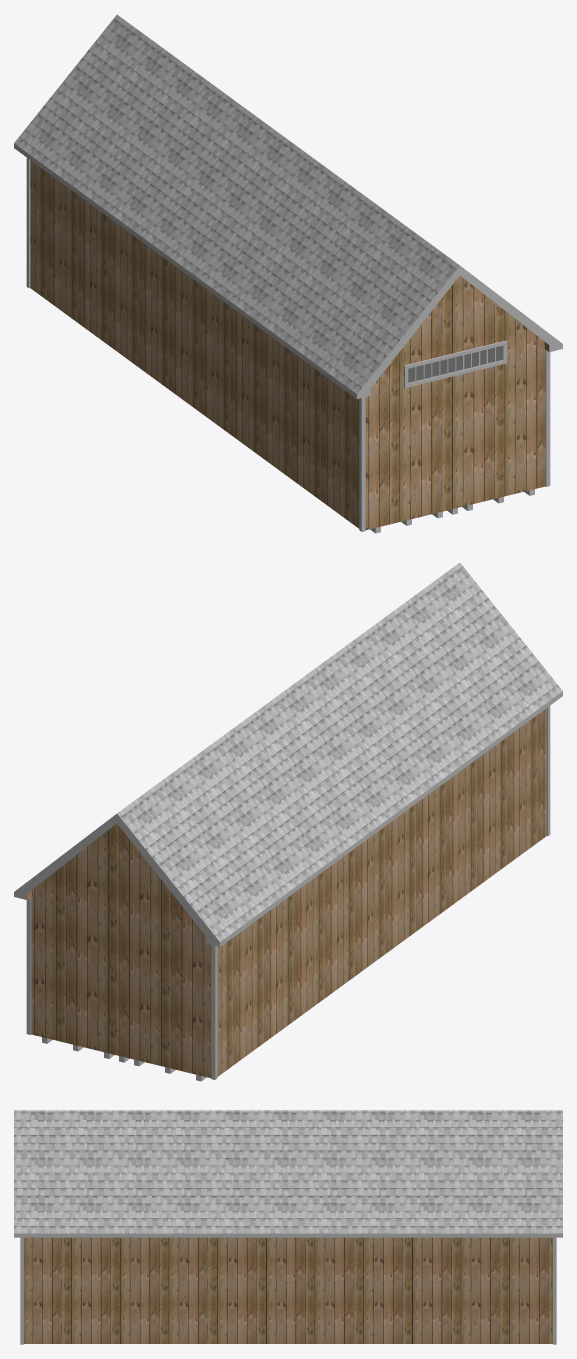
File: Elite Garage_12x36.obj
3 views of the same model, one above another, from view 1: azimuth 30°, elevation 25°; view 2: azimuth 150°, elevation 25°; view 3: azimuth 270°, elevation 25° (orthographic). The views are drawn at different scales.
Parts seen in each view (by area): view 1: Shed, Roof, Sides, Trim, Windows; view 2: Shed, Roof, Sides, Trim; view 3: Roof, Shed, Sides, Trim.
Boxes of the visible parts, left/top/right/bottom form: Shed: left=30, top=160, right=549, bottom=530; Roof: left=14, top=14, right=459, bottom=393; Sides: left=14, top=143, right=562, bottom=398; Trim: left=26, top=158, right=550, bottom=531; Windows: left=408, top=345, right=502, bottom=382; Shed: left=27, top=708, right=546, bottom=1078; Roof: left=117, top=562, right=562, bottom=941; Sides: left=14, top=691, right=562, bottom=946; Trim: left=26, top=706, right=550, bottom=1079; Roof: left=14, top=1110, right=562, bottom=1233; Shed: left=24, top=1237, right=552, bottom=1343; Sides: left=14, top=1233, right=562, bottom=1237; Trim: left=20, top=1237, right=556, bottom=1344.
Size of the model in its own units: 3.91 by 4.57 by 11.28.
